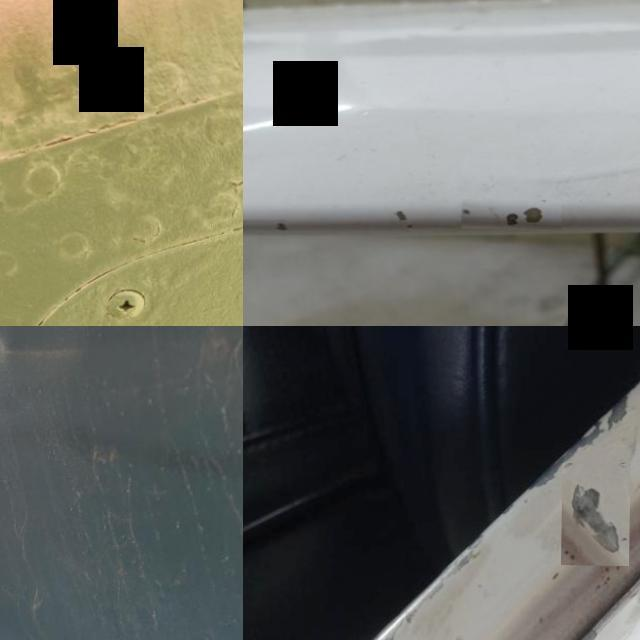Crack: (562, 462, 632, 566), (462, 198, 562, 230), (384, 199, 422, 234), (267, 211, 297, 234)
